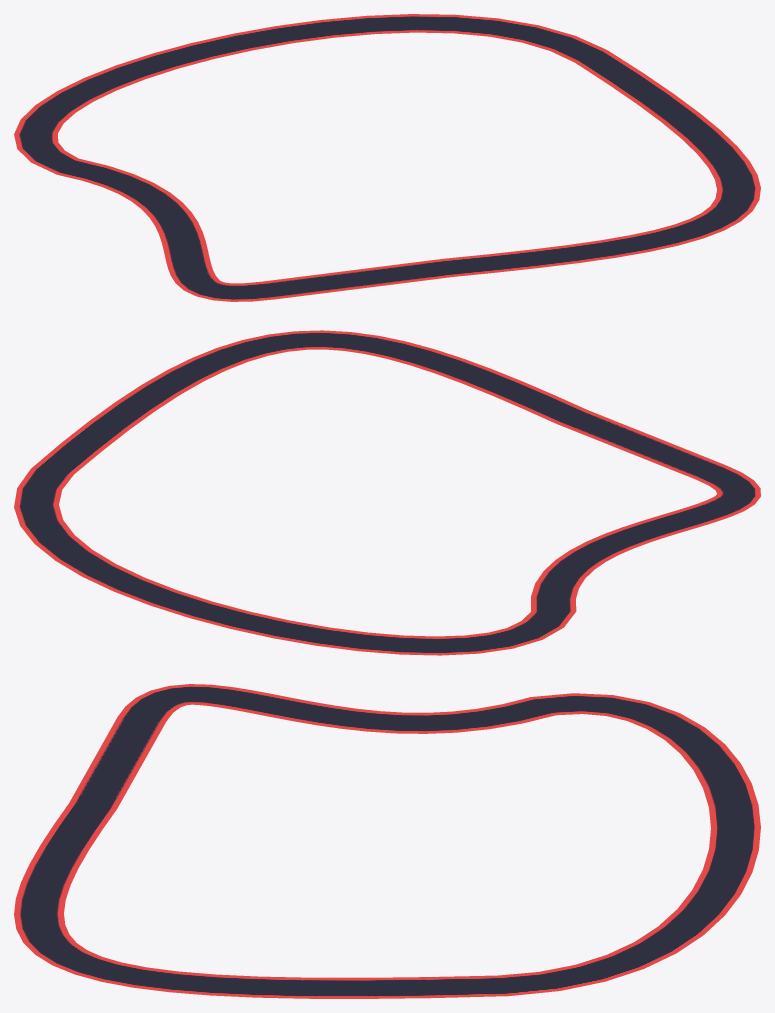
The model's file is pista.obj.
3 renders of one model, top to bottom at view 1: azimuth 30°, elevation 25°; view 2: azimuth 150°, elevation 25°; view 3: azimuth 270°, elevation 25°, orthographic. The views are drawn at different scales.
Parts seen in each view (by area): view 1: Main; view 2: Main; view 3: Main.
Boxes of the visible parts, x1,y1,x2,y2 form: Main: (14,14,760,301); Main: (14,330,760,655); Main: (14,684,760,998).
Bounding box in the file's own units: 1.49 × 0 × 1.49.
